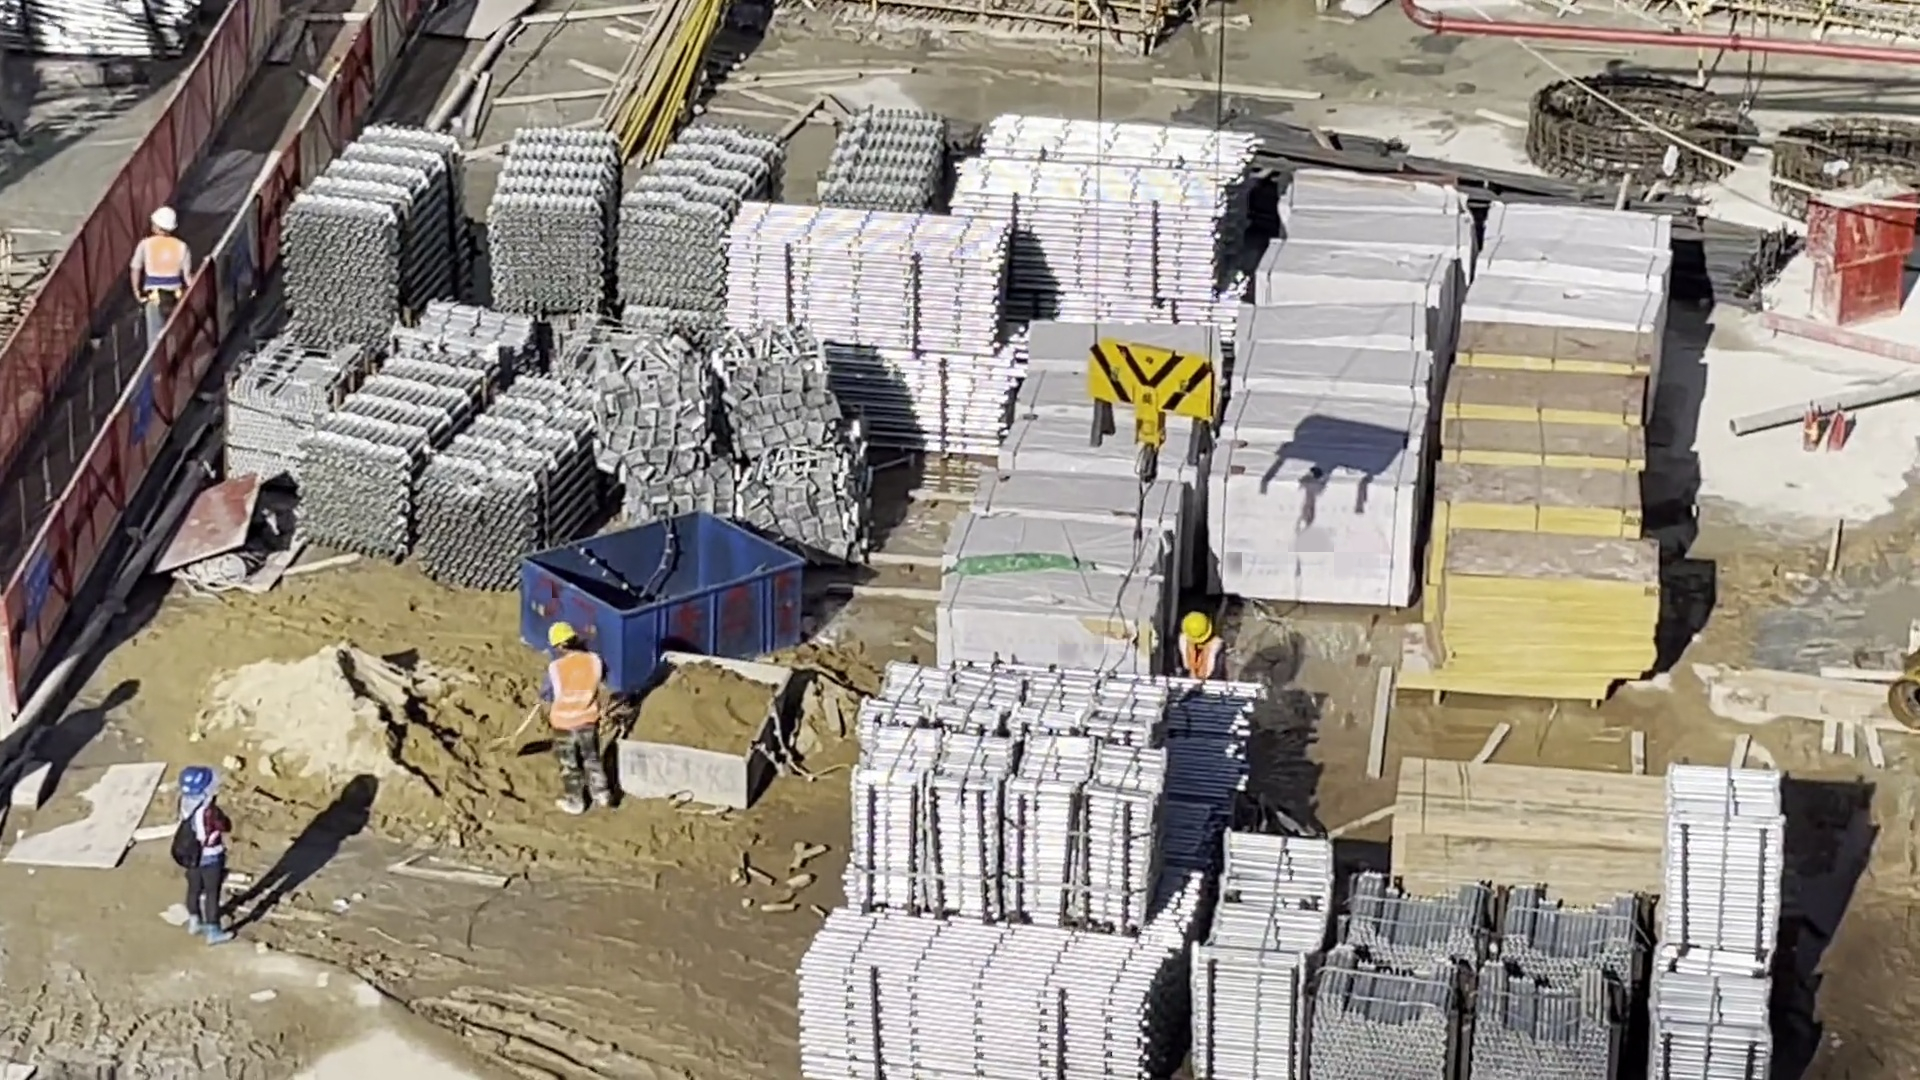fence: (1, 1, 375, 692)
helmet: (146, 194, 184, 237), (1179, 601, 1216, 640), (541, 618, 577, 649), (179, 767, 214, 796)
hook: (1079, 333, 1215, 475)
hopper: (531, 488, 794, 667), (646, 643, 774, 811)
person: (520, 617, 624, 824), (170, 741, 231, 934), (1165, 598, 1243, 706), (122, 204, 183, 332)
scaffold: (801, 669, 1296, 1066), (737, 85, 995, 462), (1354, 870, 1639, 1079), (966, 95, 1237, 309), (491, 107, 748, 320), (376, 317, 575, 571), (1636, 746, 1784, 1078), (257, 128, 463, 318)
vest: (541, 664, 608, 721), (143, 238, 189, 278), (1173, 643, 1229, 675)
